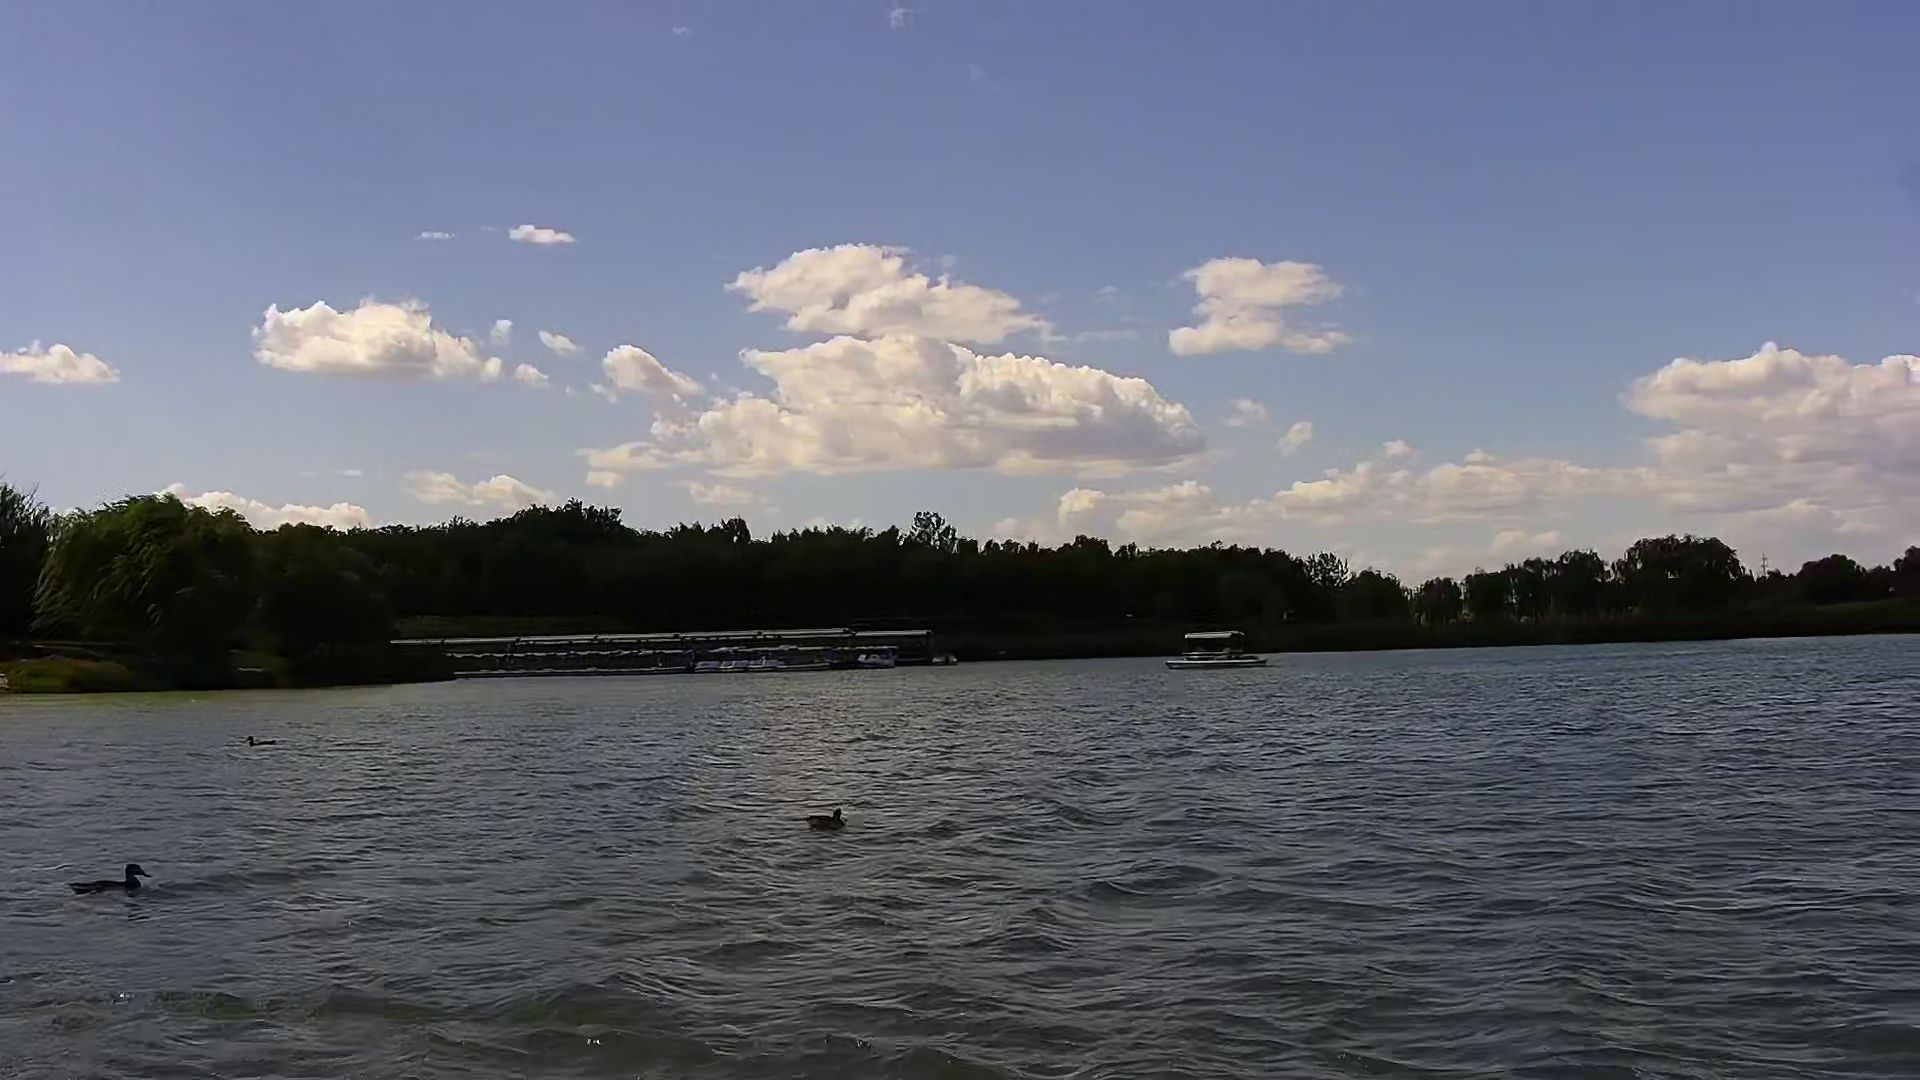animal: (65, 857, 160, 901), (798, 793, 849, 835)
boat: (1164, 613, 1283, 679)
harbor: (435, 618, 942, 691)
